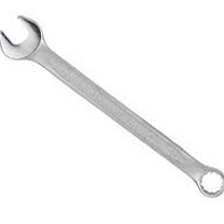Wrench: (1, 11, 224, 199)
